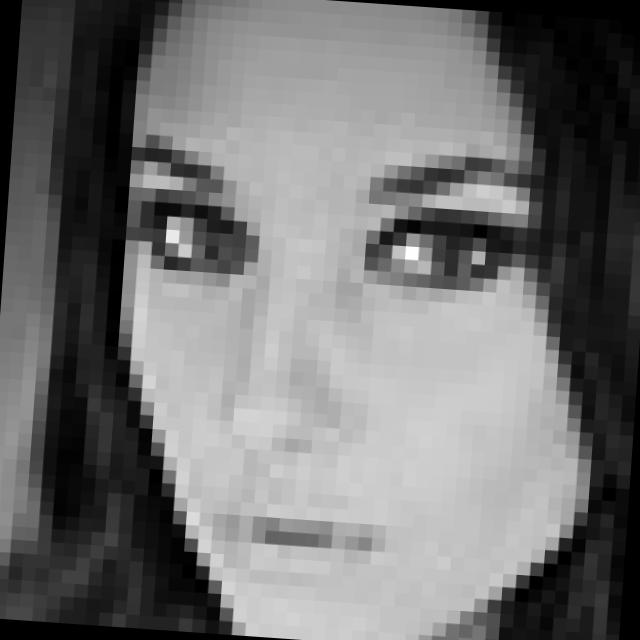neutral: (108, 128, 545, 606)
